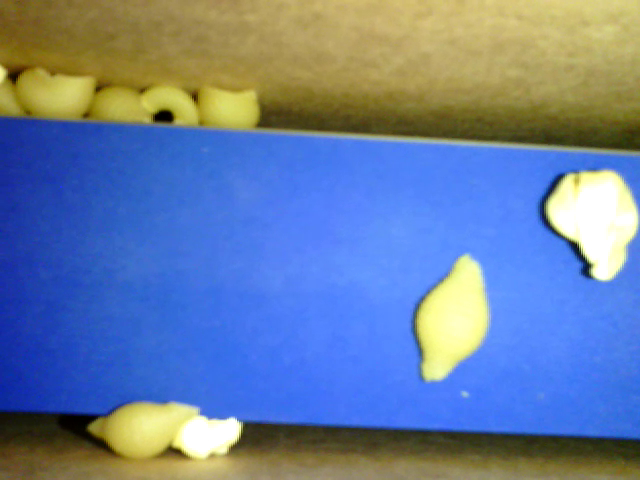elbow: (140, 82, 203, 125)
shell: (412, 253, 490, 382), (86, 399, 201, 461), (16, 66, 95, 120), (195, 82, 262, 129), (89, 84, 153, 124)
tortellini: (541, 167, 639, 280)
